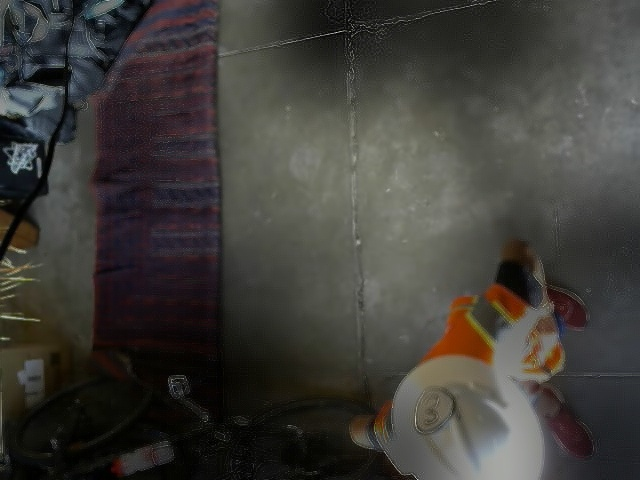three: (412, 386, 455, 434)
